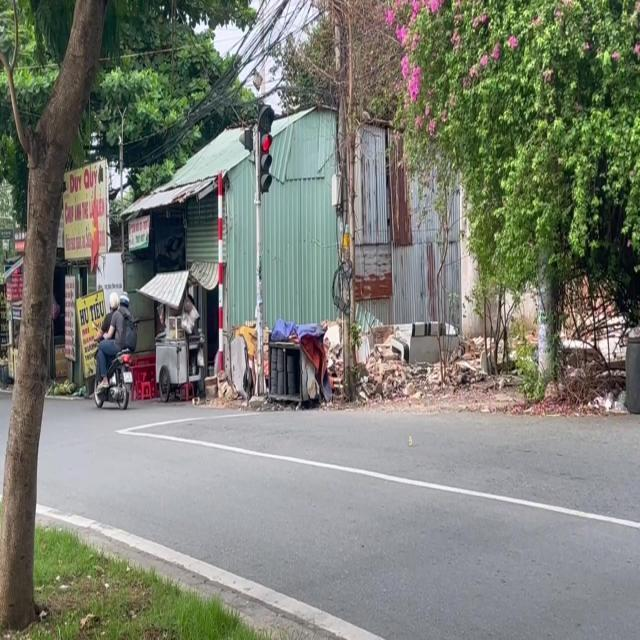red_light: (256, 103, 273, 190)
